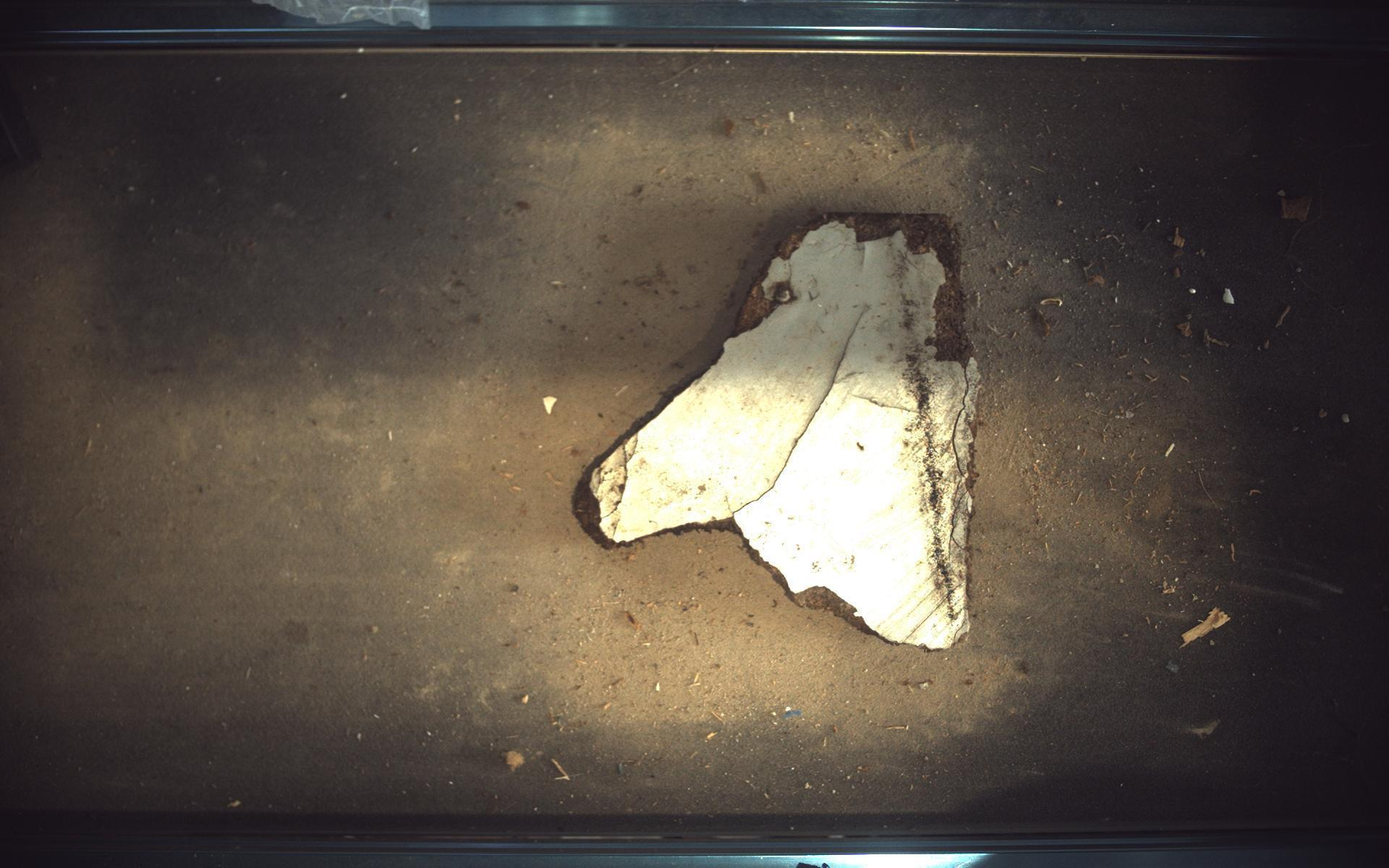wood: (590, 213, 982, 650)
